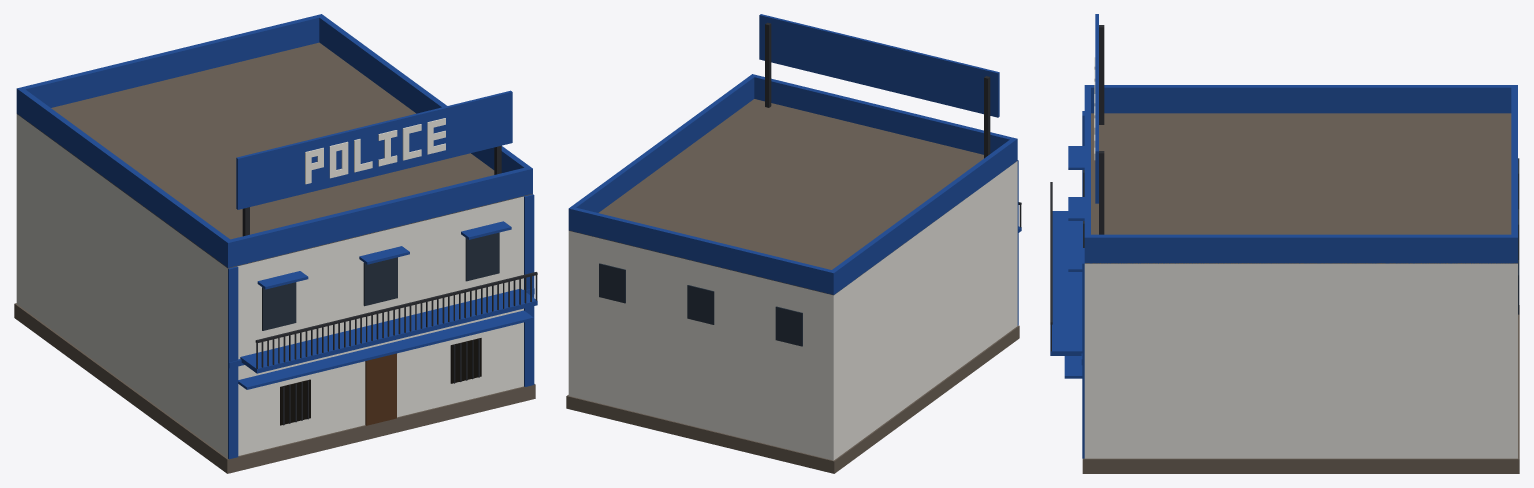
The model's file is bld_ot_police_station.glb.
The picture shows the model from 3 angles, left to right: view 1: azimuth 30°, elevation 25°; view 2: azimuth 150°, elevation 25°; view 3: azimuth 270°, elevation 25°; orthographic projection. The views are drawn at different scales.
Parts seen in each view (by area): view 1: bld_ot_police_station; view 2: bld_ot_police_station; view 3: bld_ot_police_station.
Part boxes in pixels (left/top/right/bottom): bld_ot_police_station: left=14, top=14, right=537, bottom=473; bld_ot_police_station: left=566, top=14, right=1021, bottom=473; bld_ot_police_station: left=1050, top=14, right=1519, bottom=473.
Size of what is drawn, in the model's own units: 10.1 by 9.6 by 13.
